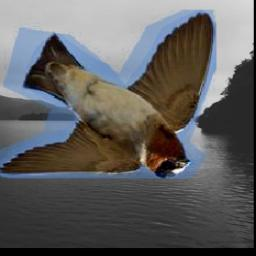Swallow: (0, 10, 216, 178)
